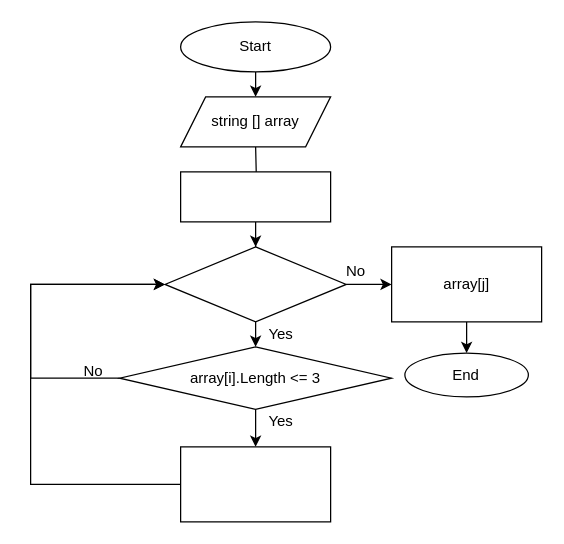
The diagram is 564 pixels wide and 544 high, and some of its shapes have lost their labels. Each missing label, with the centre of its shape:
"array[j] = array[I] I++" goes at pixel 255 484.
"i < array.Length" goes at pixel 255 284.
"i = 0 j = 0" goes at pixel 255 196.
